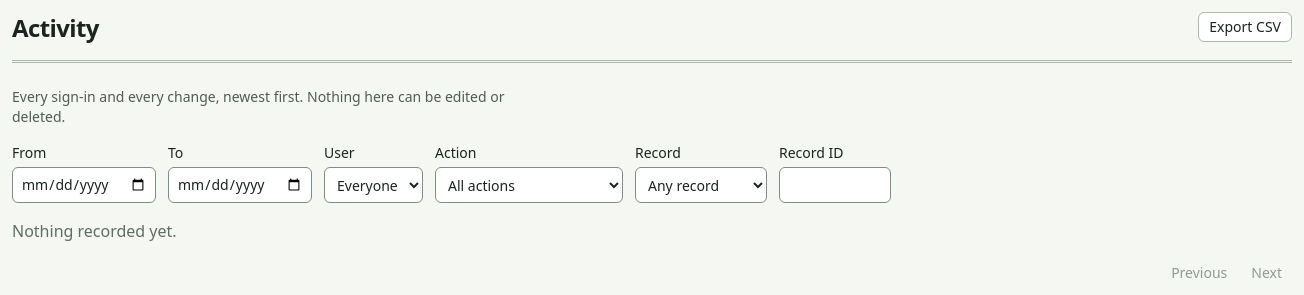
Test case: ActivityPage › explains an empty list differently with and without filters
The image size is (1304, 295).
Check: the text "Nothing recorded yet." is shown, box [12,220,177,242]
Select "hr" in the dropdown labelled "User" at coordinates (374, 185), box [324,167,423,203]
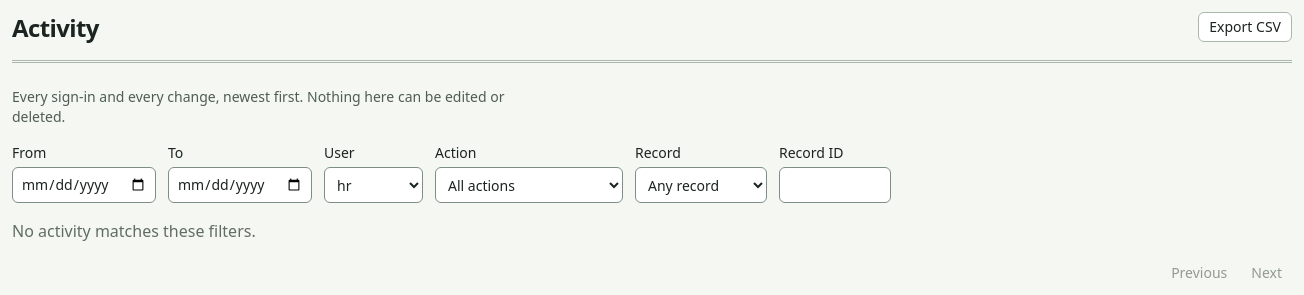
Check: the text "No activity matches these filters." is shown, box [12,220,256,242]
